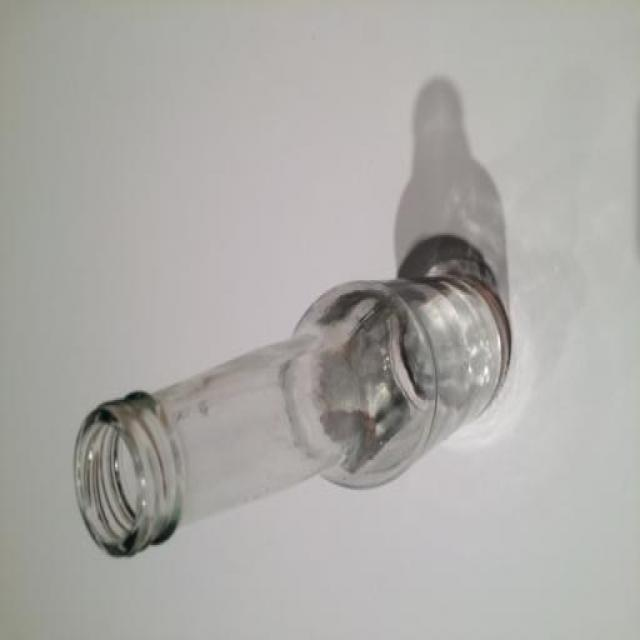Waste: (76, 277, 510, 557)
